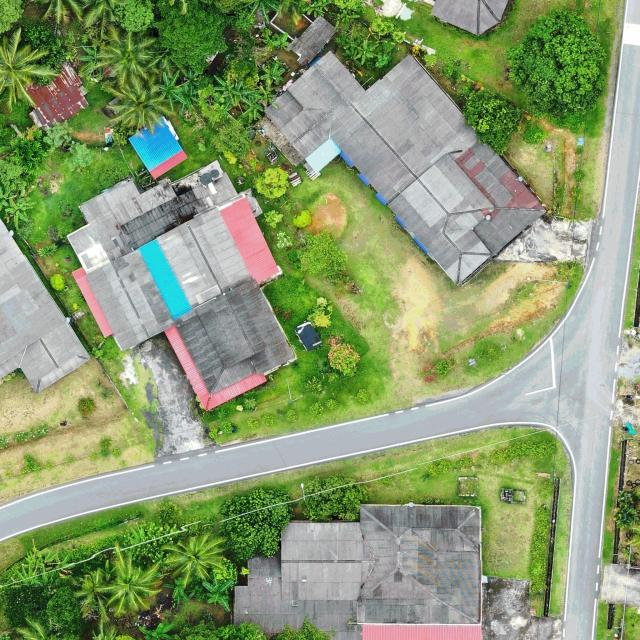Tree: (506, 9, 606, 126), (218, 486, 294, 562), (156, 0, 229, 73), (0, 29, 56, 114), (462, 85, 522, 155), (104, 549, 167, 614), (103, 73, 172, 131), (96, 26, 158, 88), (166, 532, 227, 588), (302, 473, 369, 523), (299, 230, 346, 284), (9, 126, 52, 177), (72, 568, 116, 611), (212, 74, 256, 108), (111, 0, 155, 31), (326, 338, 360, 378), (201, 572, 233, 612), (157, 69, 186, 112), (252, 168, 290, 200), (42, 554, 74, 586), (43, 120, 73, 150), (67, 142, 95, 174), (245, 0, 280, 25), (4, 196, 29, 230), (76, 45, 102, 76), (238, 94, 266, 122), (12, 564, 42, 590), (161, 576, 189, 603), (255, 82, 282, 110), (178, 82, 200, 116), (24, 546, 59, 567), (138, 621, 174, 640), (260, 64, 286, 85), (182, 69, 201, 97), (354, 40, 374, 64), (306, 0, 332, 18), (264, 34, 292, 50), (262, 209, 284, 228), (276, 230, 294, 249), (0, 187, 12, 212)
